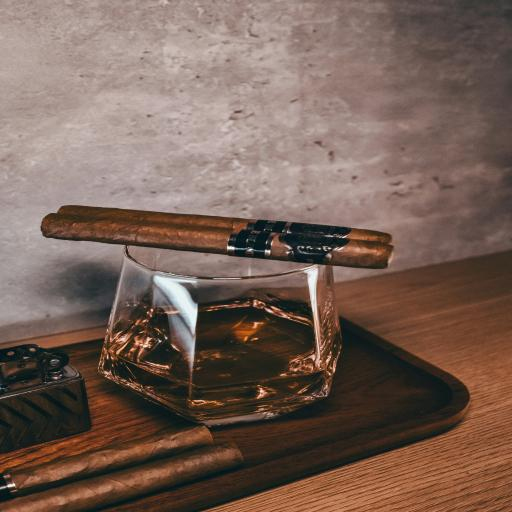nofire: (0, 1, 502, 512)
